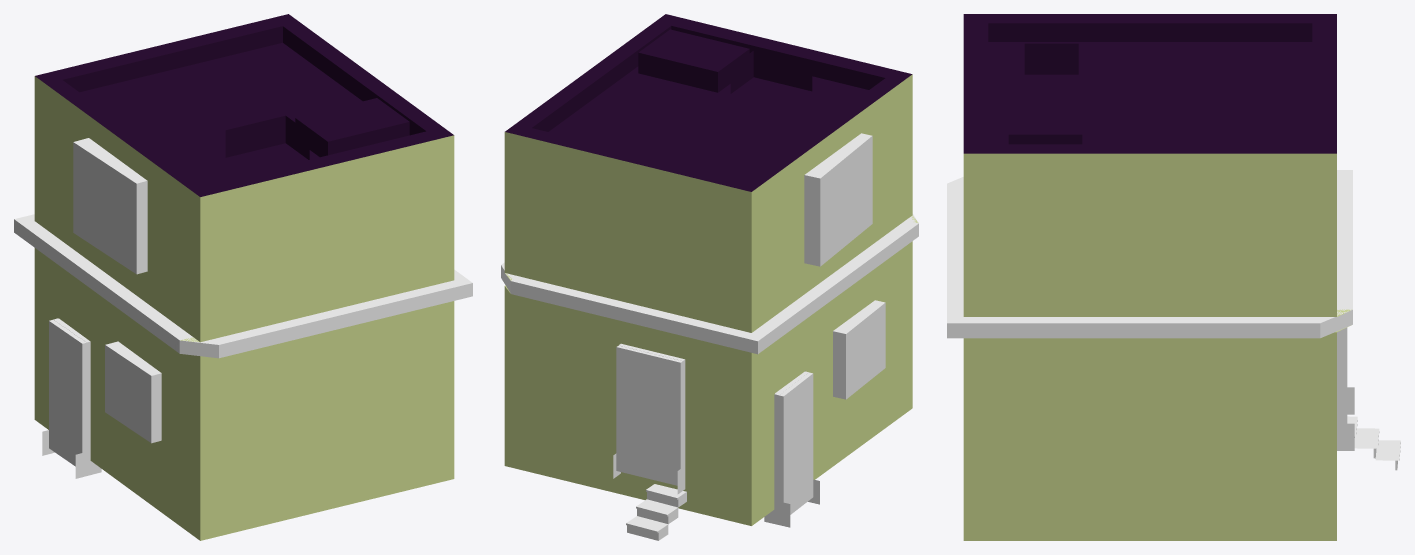
The picture shows the model from 3 angles, left to right: view 1: azimuth 30°, elevation 25°; view 2: azimuth 150°, elevation 25°; view 3: azimuth 270°, elevation 25°; orthographic projection. The views are drawn at different scales.
Visible parts, largest first — view 1: Cube, CTRL_Hole.002, CTRL_Hole, CTRL_Hole.001, CTRL_Baseboard; view 2: Cube, CTRL_Hole.003, CTRL_Hole.002, CTRL_Hole, CTRL_Hole.001, Stairs, DoorFrame, CTRL_Baseboard, DoorFrame.001; view 3: Cube, Stairs, CTRL_Hole.003, CTRL_Baseboard.001.
Boxes of the visible parts, x1,y1,x2,y2 form: Cube: [14, 14, 472, 540]; CTRL_Hole.002: [73, 138, 147, 274]; CTRL_Hole: [49, 319, 97, 469]; CTRL_Hole.001: [105, 341, 161, 443]; CTRL_Baseboard: [42, 430, 101, 478]; Cube: [501, 14, 918, 525]; CTRL_Hole.003: [616, 345, 684, 485]; CTRL_Hole.002: [804, 133, 872, 266]; CTRL_Hole: [774, 372, 813, 519]; CTRL_Hole.001: [833, 300, 885, 399]; Stairs: [626, 484, 686, 540]; DoorFrame: [774, 371, 808, 518]; CTRL_Baseboard: [764, 479, 819, 527]; DoorFrame.001: [619, 343, 685, 484]; Cube: [947, 14, 1352, 540]; Stairs: [1347, 416, 1400, 470]; CTRL_Hole.003: [1337, 327, 1347, 443]; CTRL_Baseboard.001: [1337, 387, 1354, 450].
Size of the model in its own units: 102 by 128 by 127.
